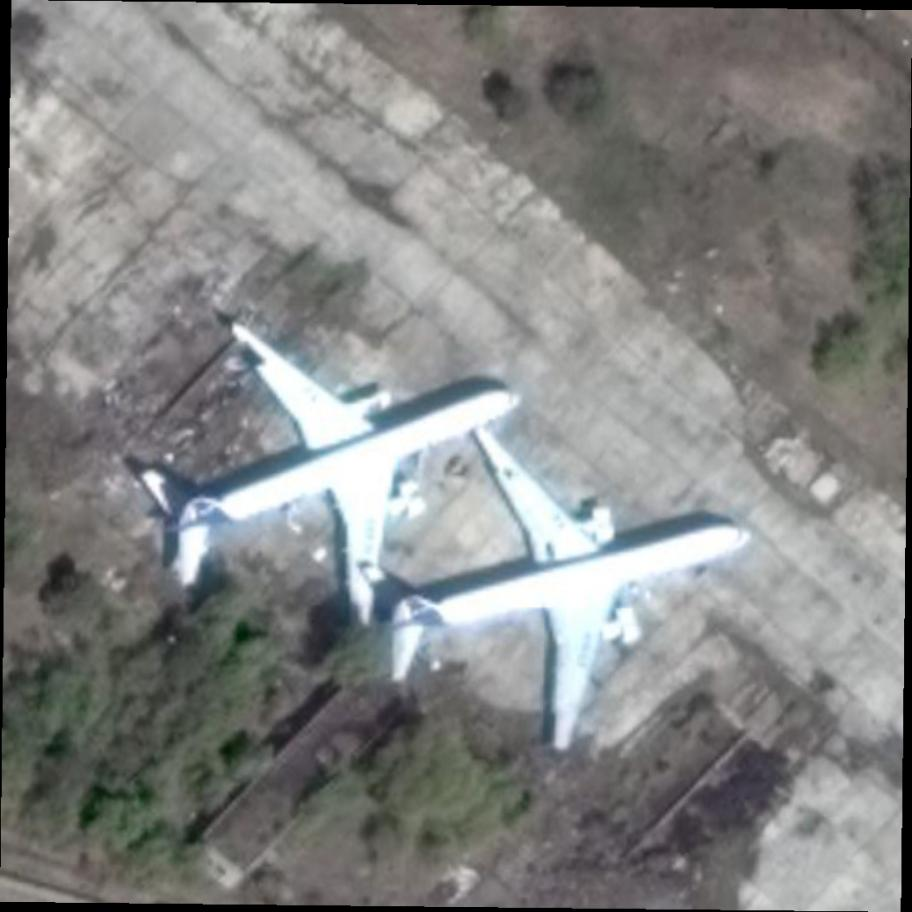plane: (94, 228, 582, 673), (331, 369, 812, 776)
